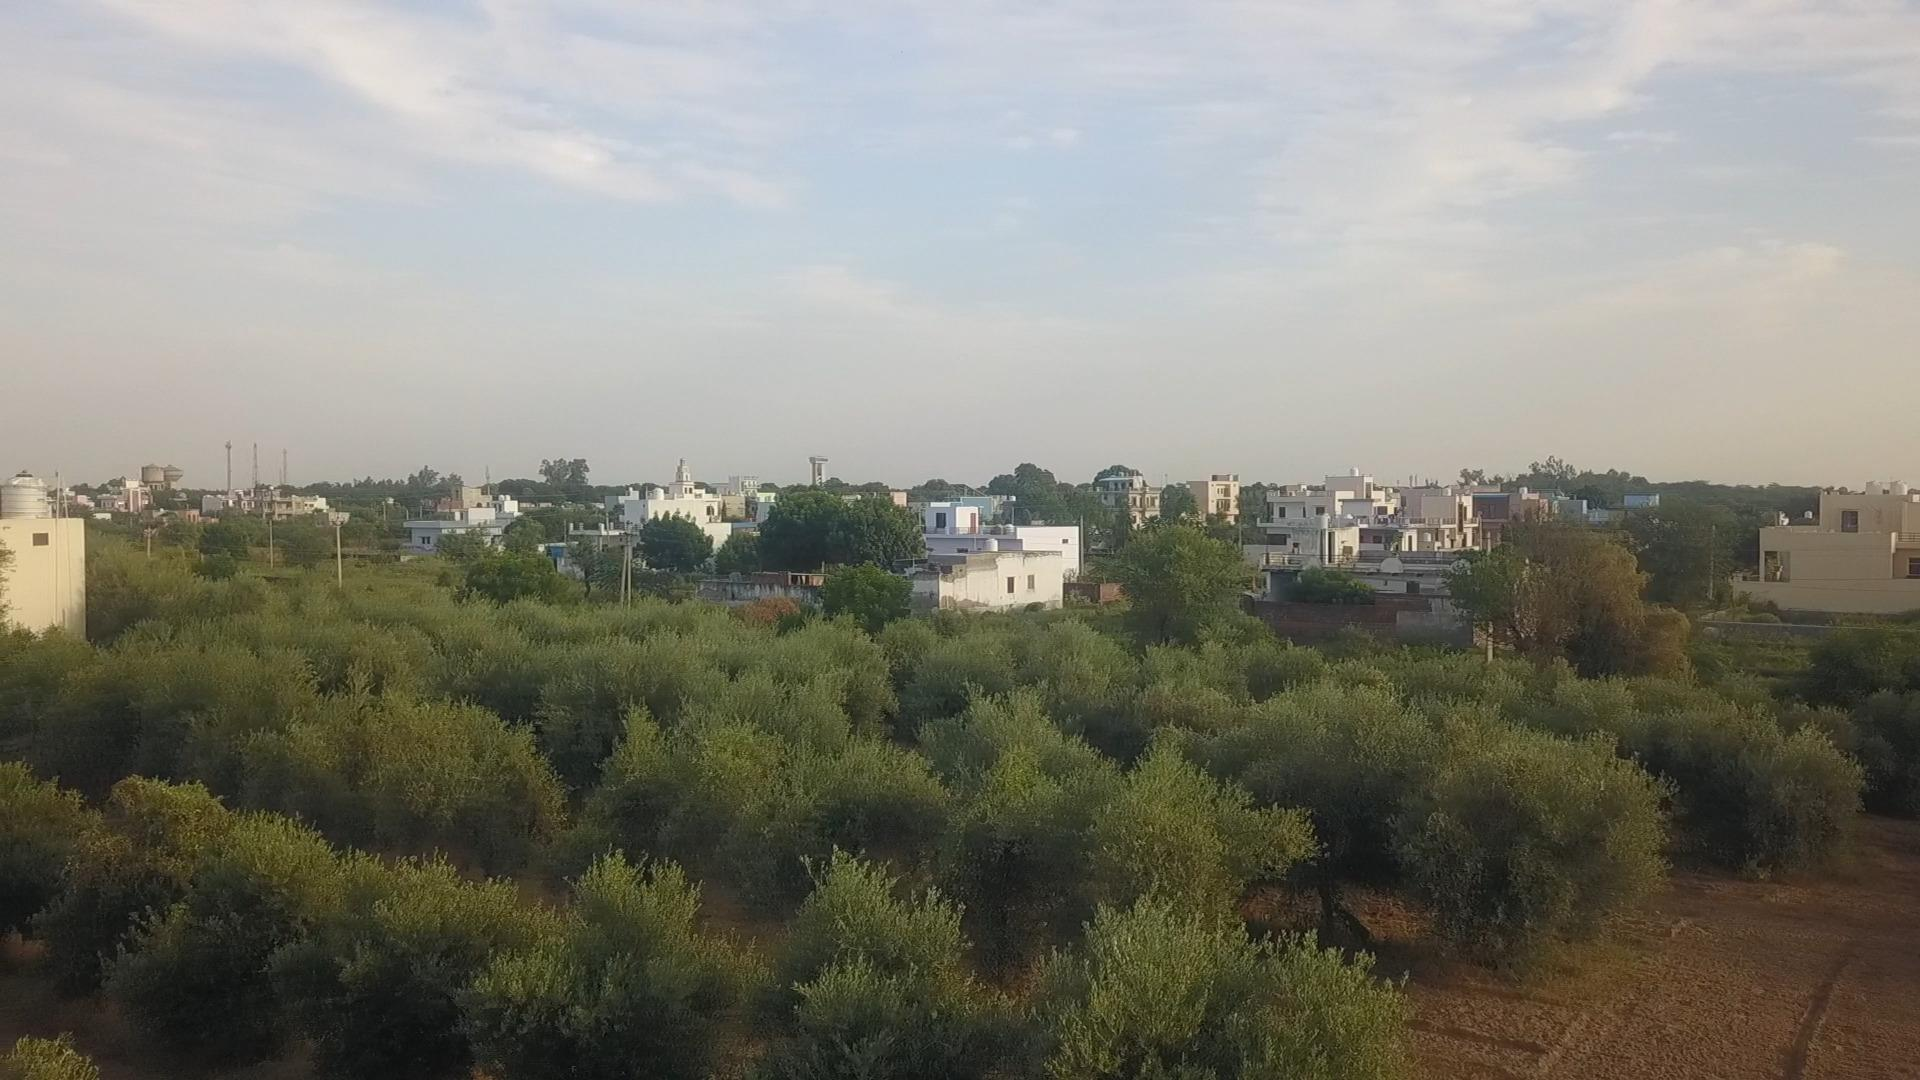canopy: (187, 593, 1862, 957), (0, 762, 1402, 1079), (0, 634, 1315, 971)
